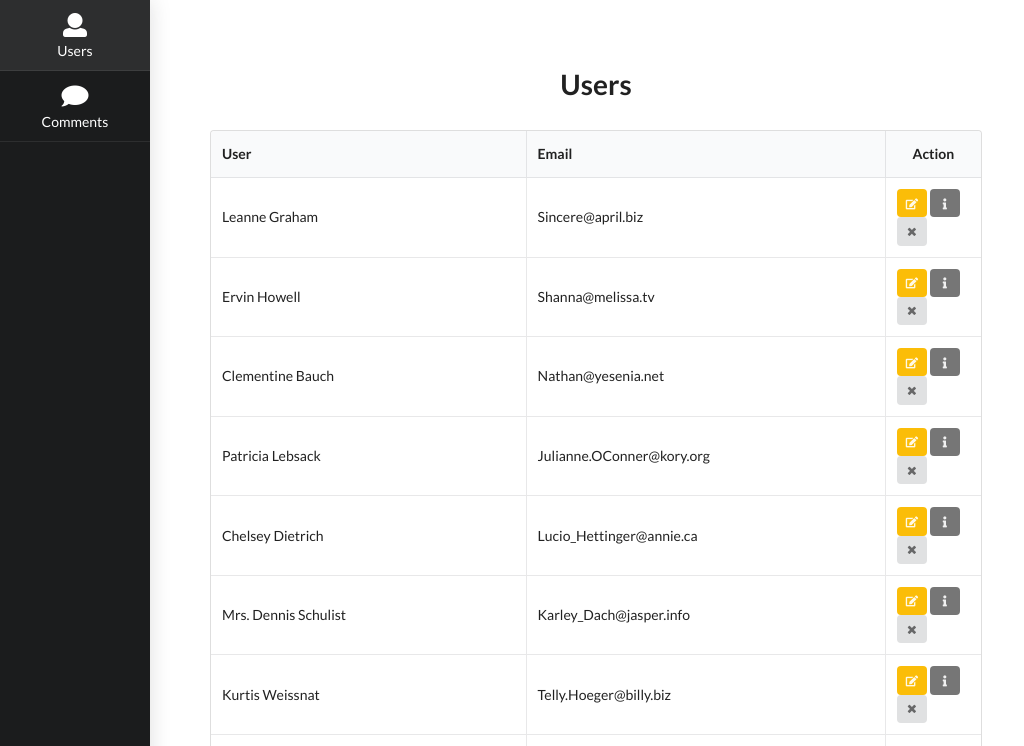
Test case: Testing Post Page › should display posts from user with id 1
This screenshot has width=1024, height=746.
Click the button with test id "info-button-1". click: (945, 203)
box: x1=930 y1=189 x2=960 y2=217
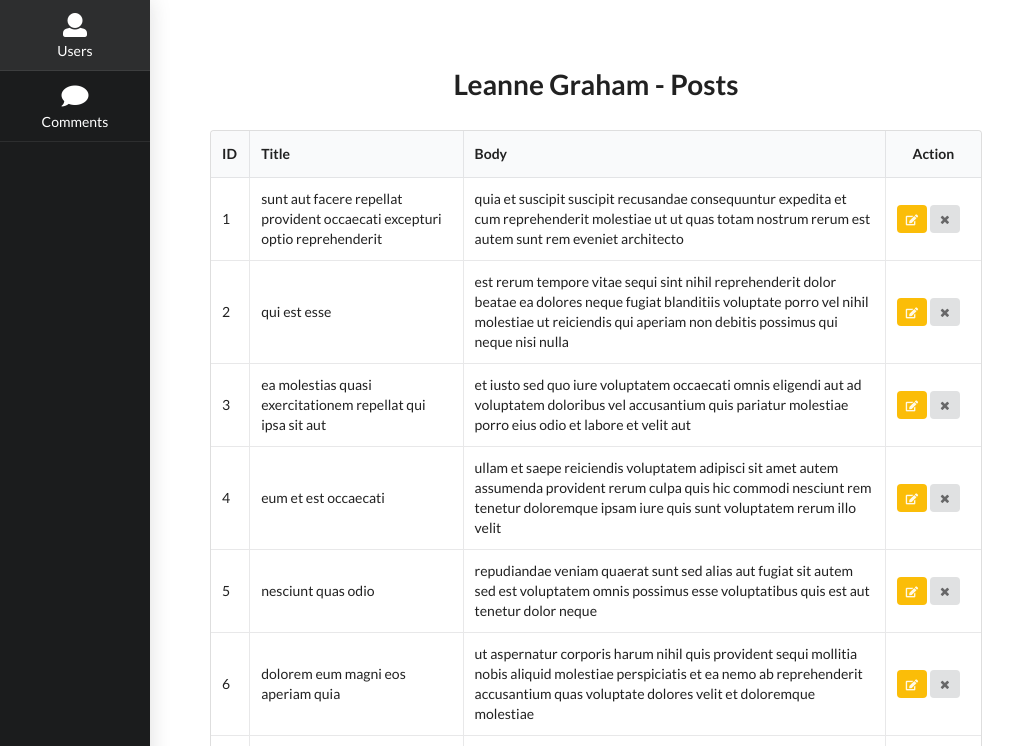
Expected: the text "sunt aut facere" is shown, x1=261 y1=190 x2=442 y2=247
